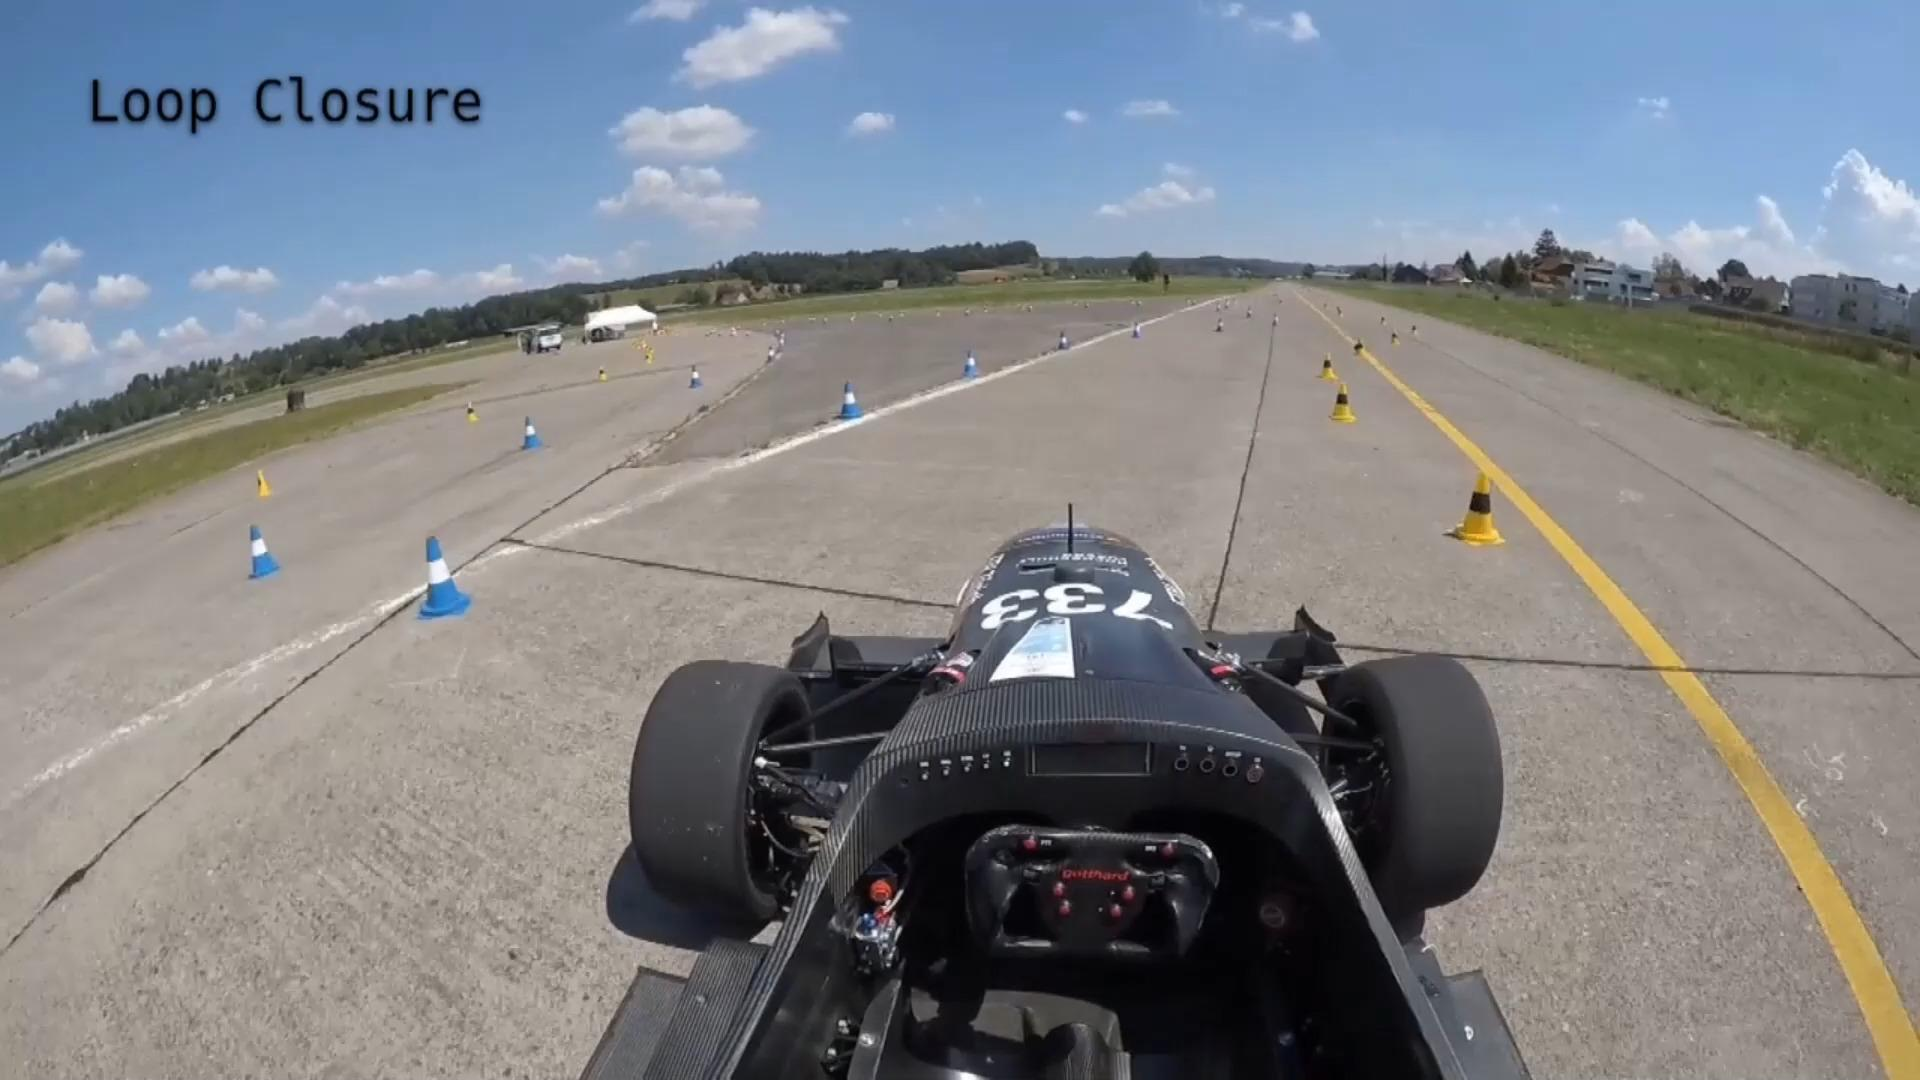blue_cone: (413, 534, 472, 629), (247, 522, 282, 584), (832, 377, 864, 425), (521, 415, 545, 451), (960, 351, 981, 381), (687, 363, 705, 393), (1056, 331, 1069, 351), (1130, 323, 1143, 340)
yellow_cone: (1437, 468, 1506, 546), (1323, 384, 1361, 427), (1315, 357, 1341, 389), (256, 469, 276, 502), (1350, 336, 1367, 364), (463, 405, 479, 426), (595, 364, 608, 384)
